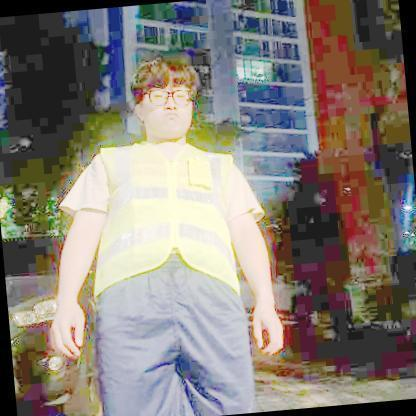no-helmet: (134, 58, 205, 107)
vest: (79, 132, 247, 310)
